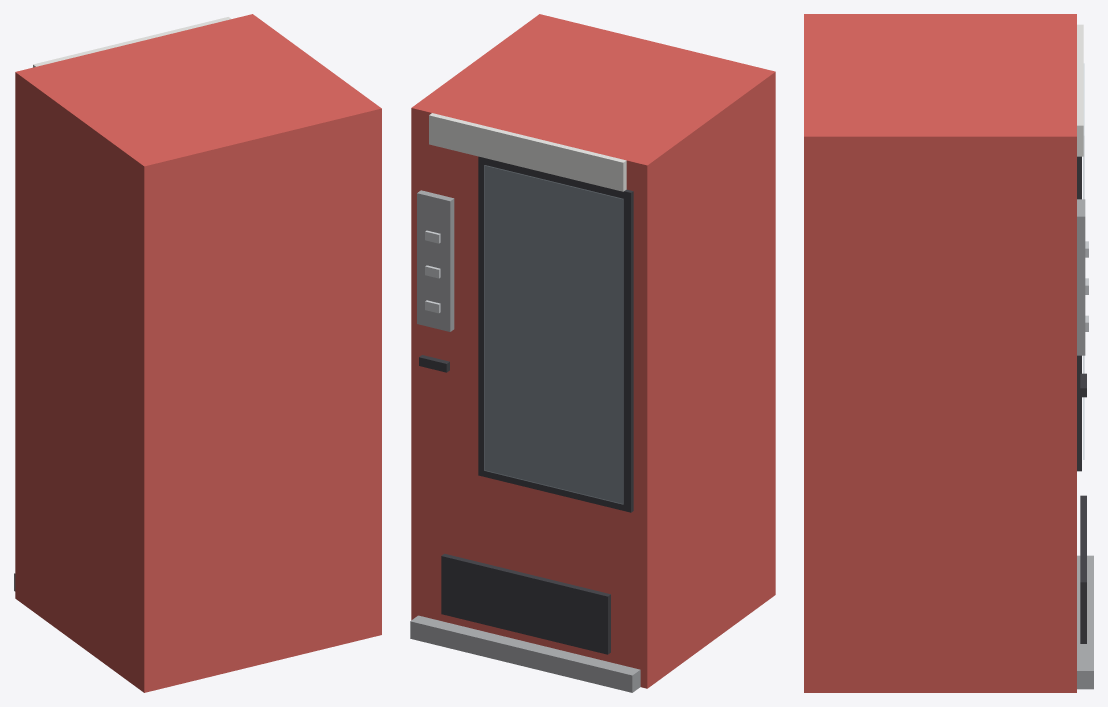
The model's file is vending_machine.glb.
3 renders of one model, left to right at view 1: azimuth 30°, elevation 25°; view 2: azimuth 150°, elevation 25°; view 3: azimuth 270°, elevation 25°, orthographic. The views are drawn at different scales.
Parts seen in each view (by area): view 1: vending_machine; view 2: vending_machine; view 3: vending_machine.
Part boxes in pixels (x1,y1,x2,y2): vending_machine: (14, 14, 381, 692); vending_machine: (410, 14, 775, 692); vending_machine: (804, 14, 1093, 692).
Bounding box in the file's own units: 0.85 × 1.8 × 0.85.
